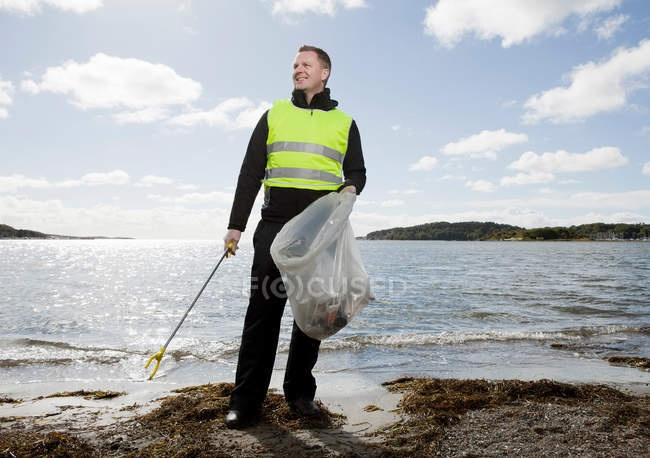person with partial safety: (223, 44, 359, 428)
safety vest: (264, 100, 352, 190)
